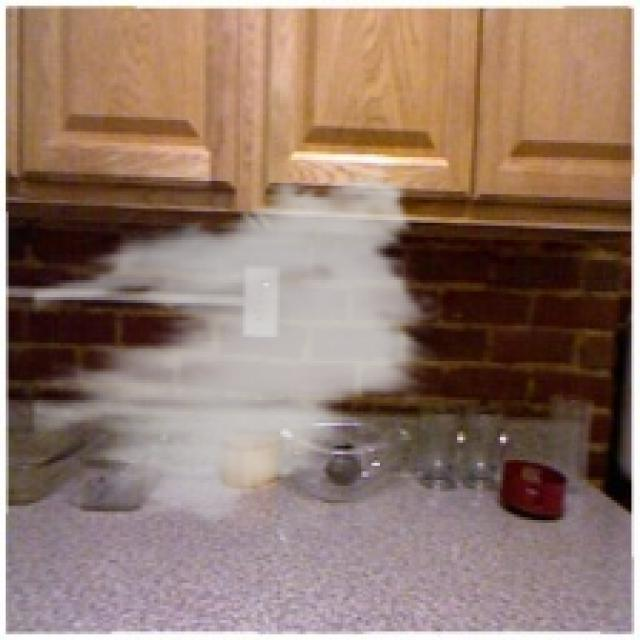Smoke: (31, 155, 443, 534)
